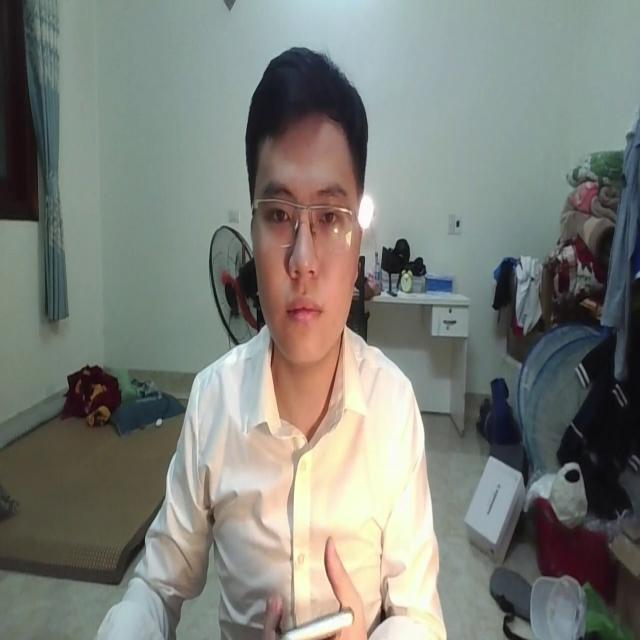phone: (268, 601, 355, 640)
student: (84, 46, 444, 640)
